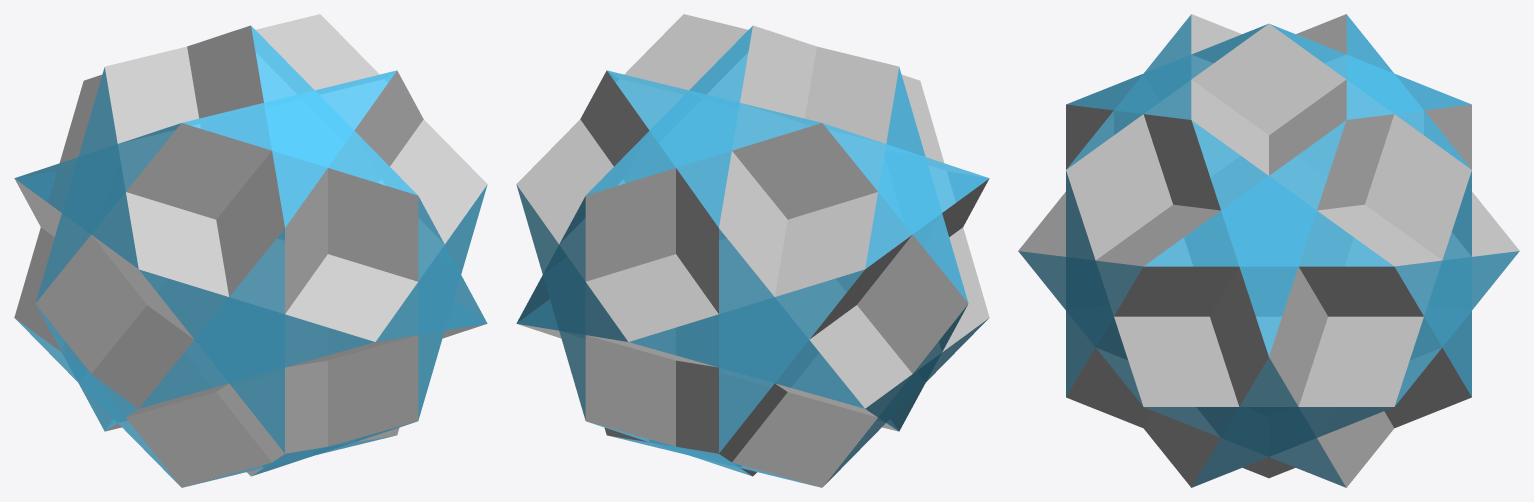
Rendered from Dodecadodecahedron.obj.
3 views of the same model, side by side, from view 1: azimuth 30°, elevation 25°; view 2: azimuth 150°, elevation 25°; view 3: azimuth 270°, elevation 25° (orthographic).
Size of the model in its own units: 2 by 2 by 2.
